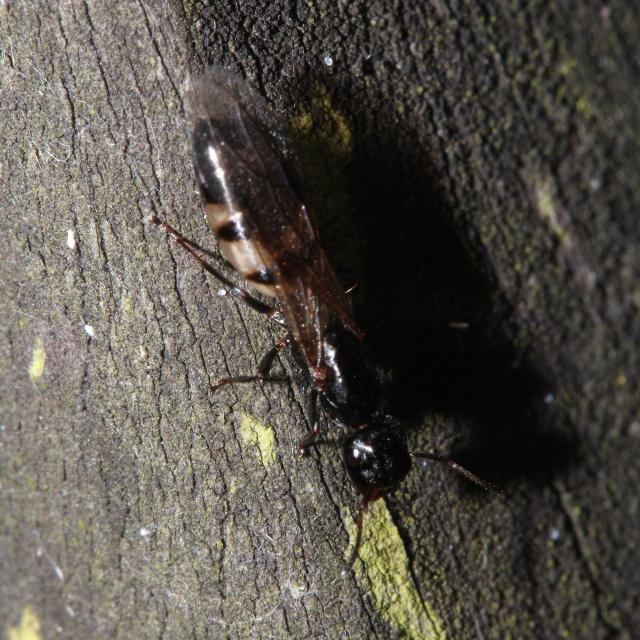Colobopsis: (160, 96, 472, 544)
